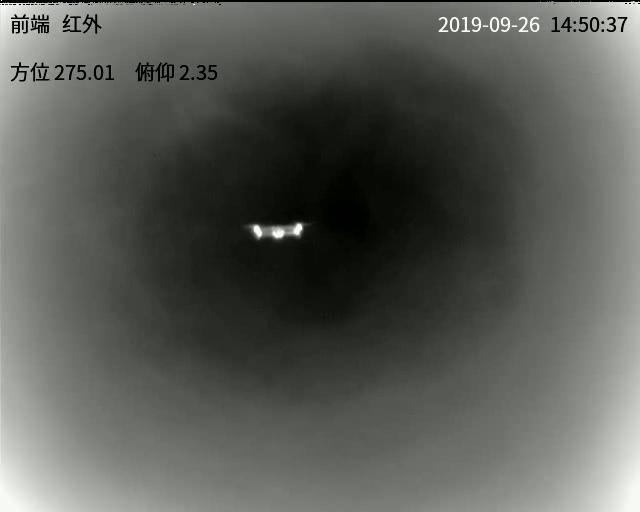DRONE: (252, 221, 304, 239)
